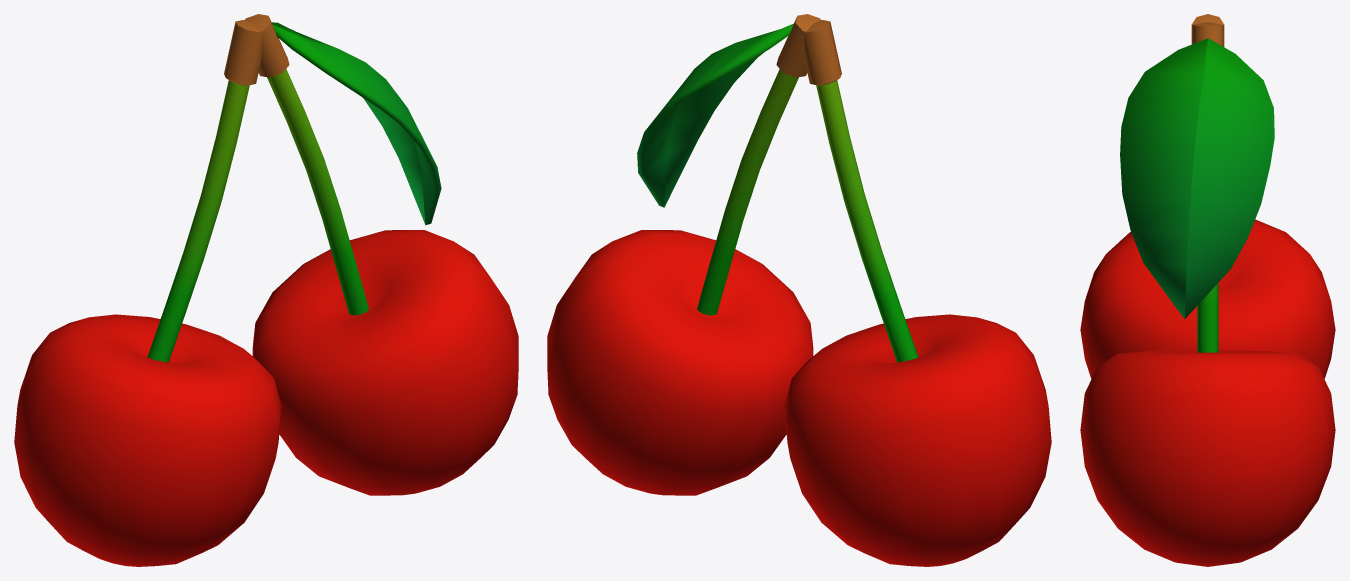
File: Chery.fbx
The picture shows the model from 3 angles, left to right: view 1: azimuth 30°, elevation 25°; view 2: azimuth 150°, elevation 25°; view 3: azimuth 270°, elevation 25°; orthographic projection. The views are drawn at different scales.
Parts seen in each view (by area): view 1: Chery; view 2: Chery; view 3: Chery.
Boxes of the visible parts, <box> form: Chery: <box>14,14,518,566</box>; Chery: <box>547,14,1051,566</box>; Chery: <box>1080,14,1335,566</box>.
Size of the model in its own units: 3.65 by 3.76 by 1.8.
Materials: 1 (1 with a texture image).
